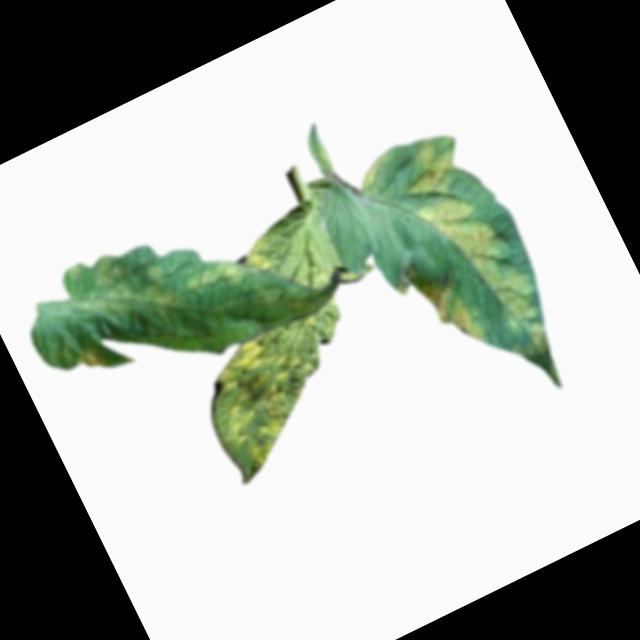Leaf_Mold: (385, 122, 575, 408), (184, 296, 391, 483), (63, 229, 185, 346), (389, 244, 490, 366), (183, 249, 247, 309), (234, 231, 282, 281), (77, 344, 111, 377)
